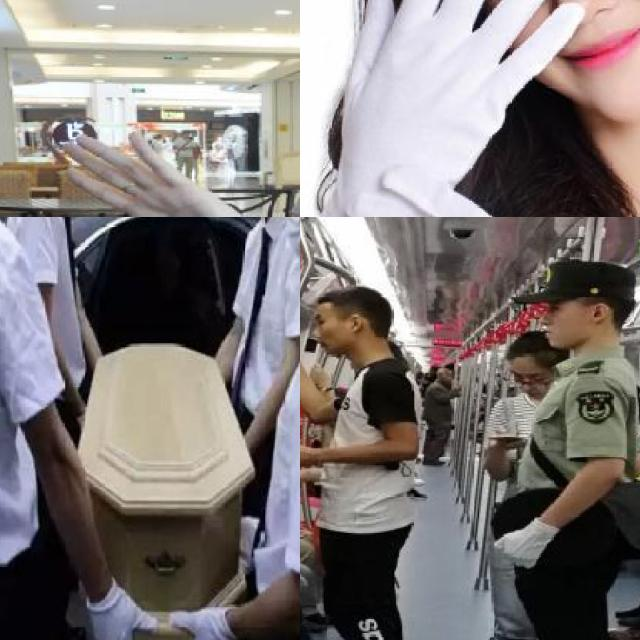No_Ear-Protection: (590, 301, 608, 325), (349, 313, 364, 335)
face_nomask: (455, 0, 640, 102), (538, 293, 596, 344), (306, 310, 354, 356)
hand_glove: (320, 0, 586, 217), (337, 164, 618, 217), (493, 524, 558, 571), (87, 600, 158, 640), (168, 603, 230, 640)
hand_noglove: (58, 128, 255, 217), (487, 428, 527, 453), (300, 440, 317, 468)
head_nohelmet: (545, 259, 640, 310), (499, 322, 559, 368), (317, 274, 388, 307)
person: (300, 0, 640, 217), (0, 217, 144, 640), (485, 265, 640, 640), (58, 0, 300, 217), (300, 257, 437, 640), (3, 217, 119, 427), (200, 217, 300, 418)
